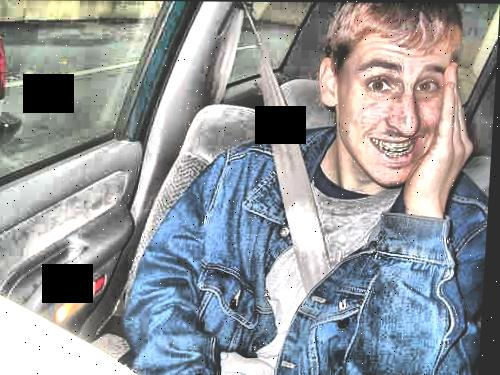seatbelt: (200, 12, 357, 288)
